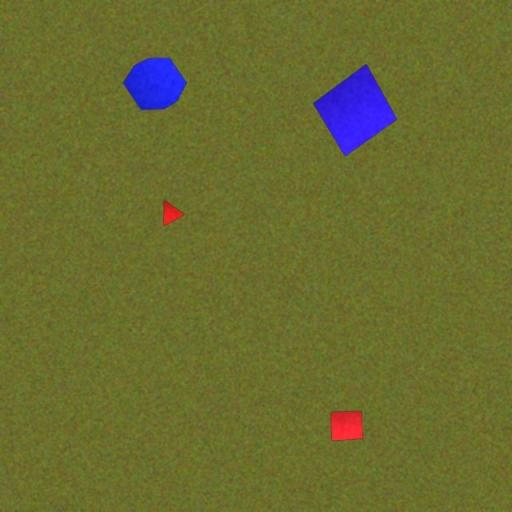BLUE_SQUARE: (312, 63, 398, 158)
RED_SQUARE: (330, 410, 364, 442)
